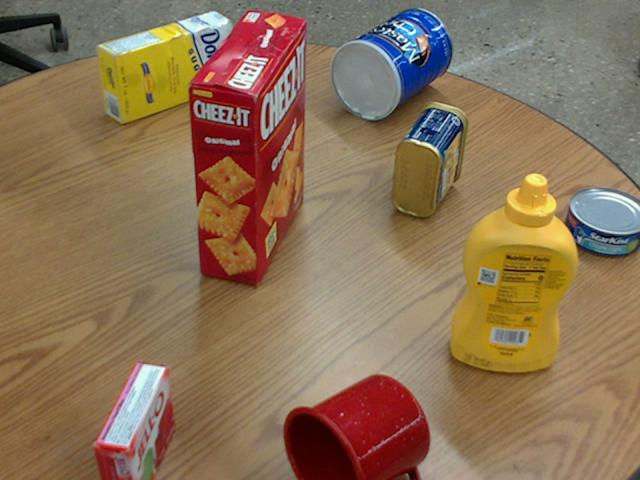cracker_box: (188, 10, 307, 284)
gelatin_box: (87, 362, 170, 479)
master_chef_can: (328, 8, 450, 119)
mug: (279, 375, 428, 479)
mustard_bottle: (448, 173, 576, 371)
potted_meat_can: (391, 101, 466, 216)
sugar_box: (96, 10, 233, 121)
tuna_fish_can: (562, 187, 639, 257)
